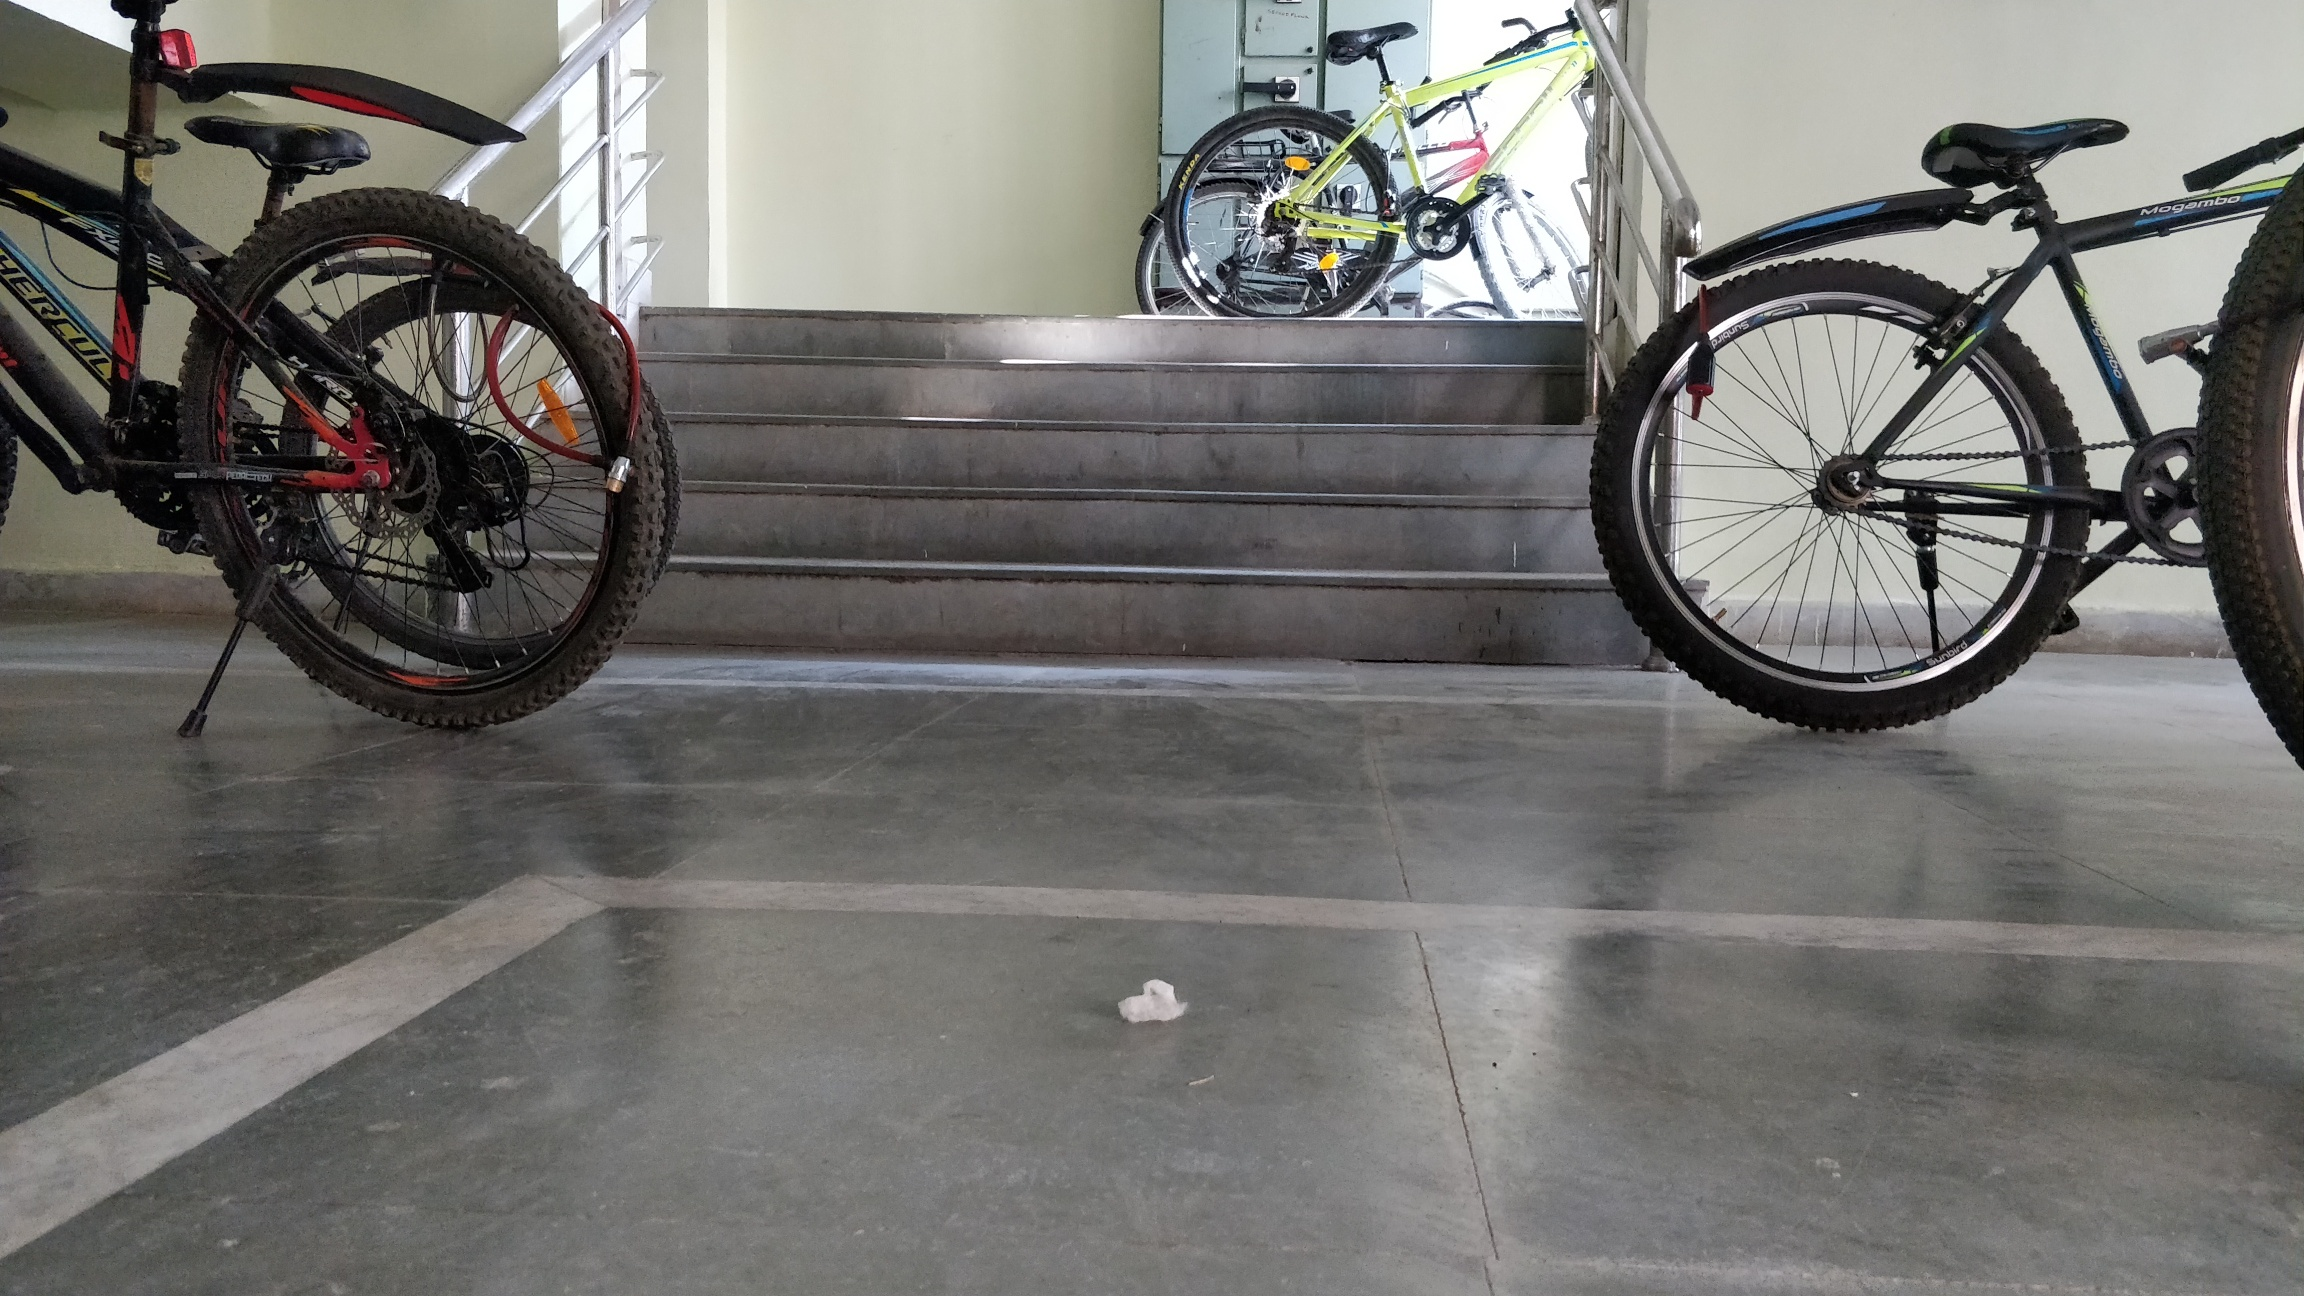stairs_up: (658, 302, 1643, 663)
